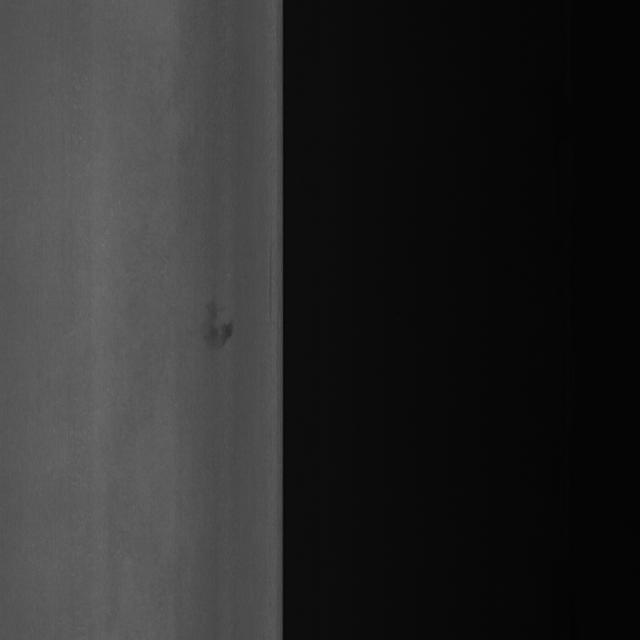welding_line: (204, 293, 238, 364)
